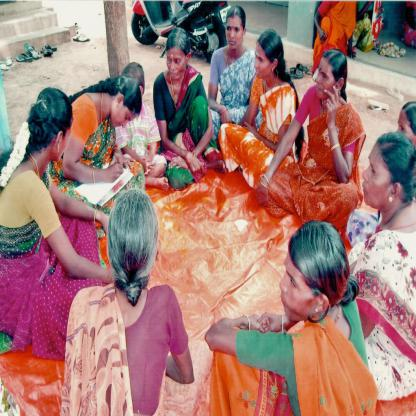face: (280, 251, 312, 323), (364, 146, 391, 209), (395, 114, 416, 153), (57, 114, 74, 161), (317, 59, 336, 100), (167, 47, 188, 81), (256, 44, 273, 79), (113, 108, 139, 130), (227, 18, 243, 51)
